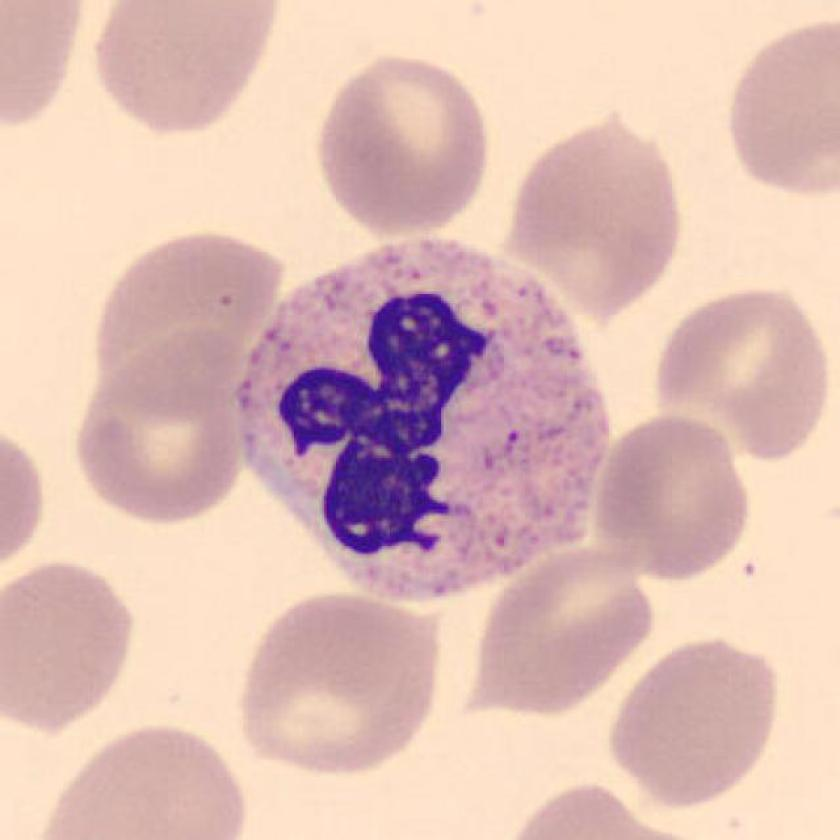neutrophil: (240, 240, 610, 593)
